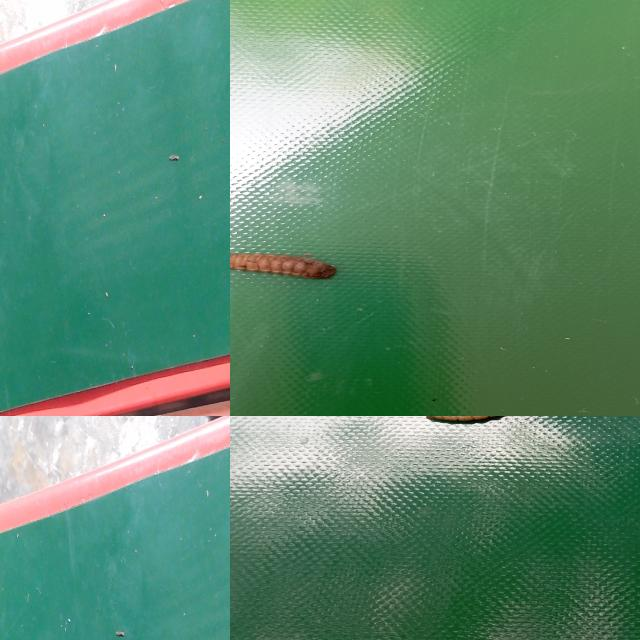Maggot: (230, 253, 338, 281), (425, 416, 507, 426)
